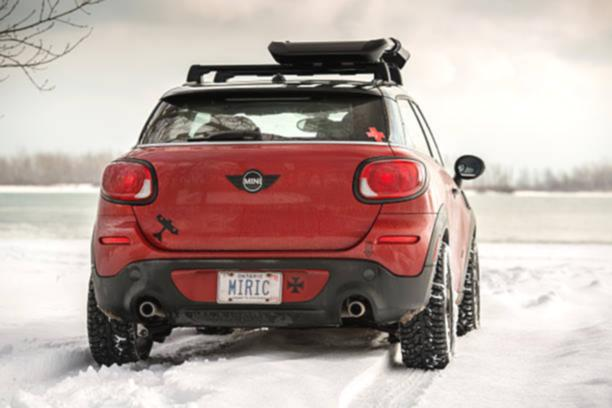mini: (219, 161, 289, 207)
